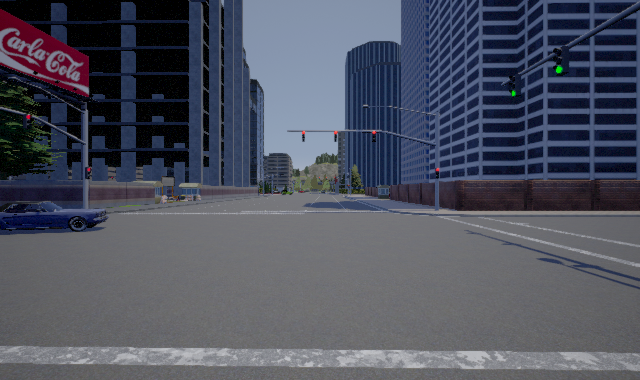traffic_light: (553, 46, 569, 76), (509, 74, 521, 98), (23, 114, 32, 129), (85, 167, 91, 179), (435, 168, 439, 179), (372, 131, 376, 142), (334, 131, 337, 142), (302, 131, 305, 142)
vehicle: (1, 201, 109, 232)
